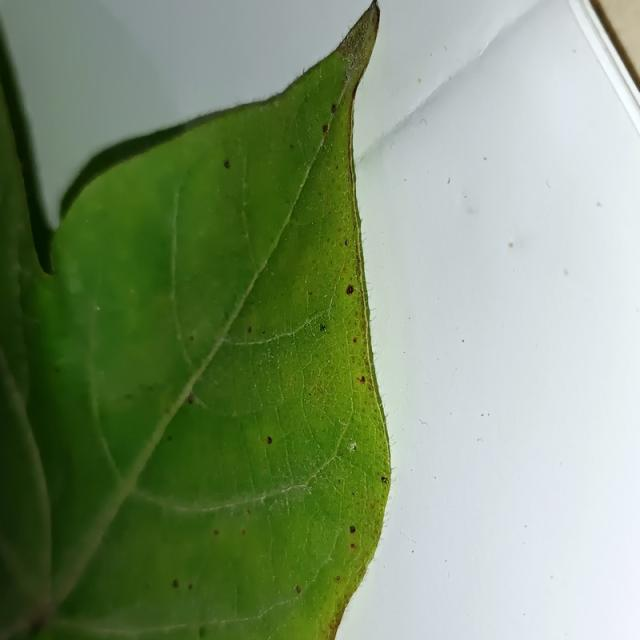Bacterial_Blight: (17, 603, 53, 635), (170, 577, 197, 593), (343, 279, 358, 299), (356, 375, 366, 385), (380, 475, 388, 485), (348, 524, 356, 534), (319, 323, 327, 332), (172, 579, 179, 589), (266, 436, 273, 445), (294, 585, 301, 594), (187, 395, 194, 404), (223, 160, 230, 169), (322, 124, 329, 133), (350, 443, 357, 451), (54, 366, 61, 373), (331, 104, 337, 112), (335, 575, 341, 583), (344, 72, 349, 81), (213, 529, 219, 536), (350, 543, 356, 549), (247, 326, 252, 333), (289, 143, 294, 150), (344, 238, 348, 246), (167, 435, 172, 441), (241, 529, 246, 535), (189, 335, 194, 341), (368, 386, 373, 391), (353, 337, 357, 343), (247, 508, 251, 514), (337, 478, 341, 484), (308, 291, 312, 296), (262, 330, 266, 334), (308, 392, 311, 396)
Cotton: (0, 3, 390, 639)
